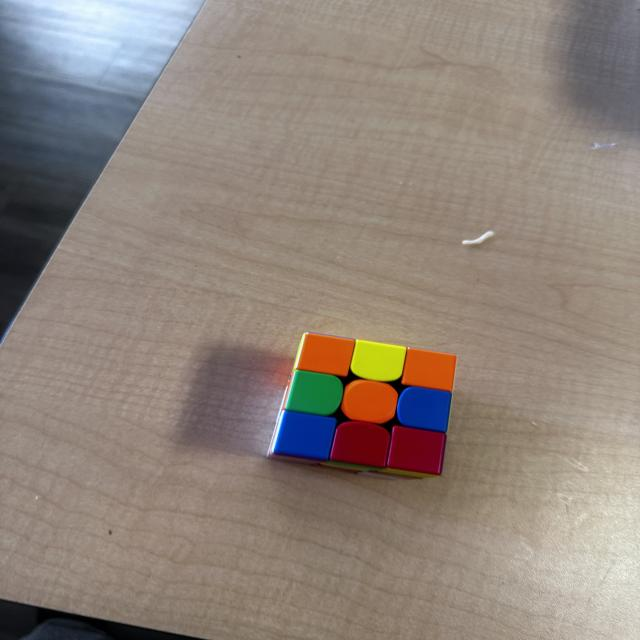sticker: (394, 430, 446, 472), (333, 422, 387, 461), (403, 387, 450, 429), (285, 413, 330, 455), (409, 349, 455, 389), (308, 334, 352, 374), (349, 384, 396, 421), (299, 373, 340, 413), (358, 343, 402, 380)
